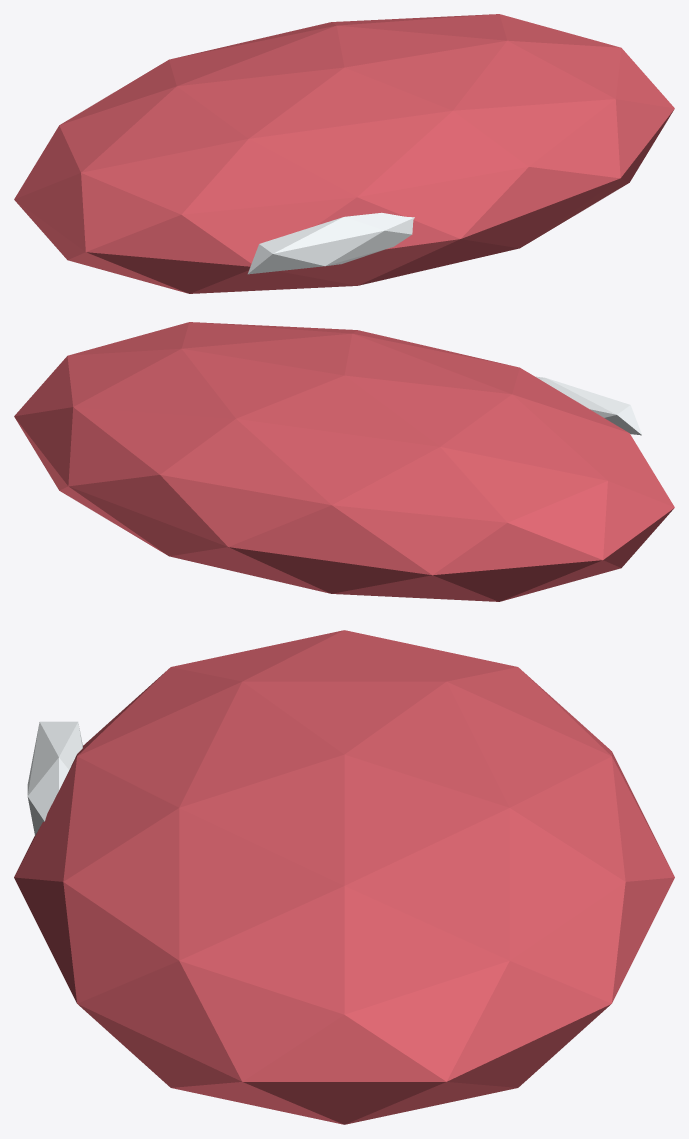
Rendered from MeatRaw.fbx.
The picture shows the model from 3 angles, top to bottom: view 1: azimuth 30°, elevation 25°; view 2: azimuth 150°, elevation 25°; view 3: azimuth 270°, elevation 25°; orthographic projection. The views are drawn at different scales.
Parts seen in each view (by area): view 1: Steak, Fat; view 2: Steak, Fat; view 3: Steak, Fat.
Boxes of the visible parts, x1=… form: Steak: x1=14, y1=14, x2=674, y2=293; Fat: x1=248, y1=212, x2=414, y2=274; Steak: x1=14, y1=322, x2=674, y2=601; Fat: x1=535, y1=376, x2=641, y2=435; Steak: x1=14, y1=630, x2=674, y2=1124; Fat: x1=27, y1=721, x2=82, y2=835.
Size of the model in its own units: 1.05 by 0.2944 by 0.7176.
